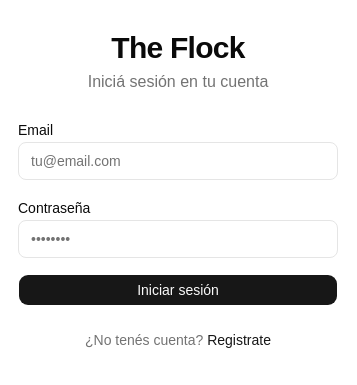
LoginPage › shows validation error on empty submit
Click the button "Iniciar sesión" at [178, 290], box [18,274,338,306]
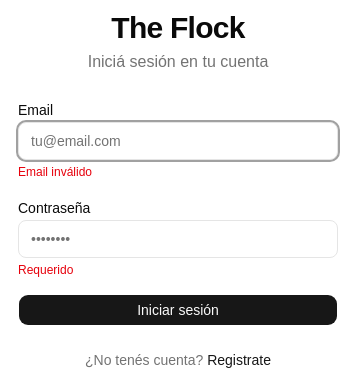
Expected: the text "Email inválido" is shown, [18,165,92,179]
